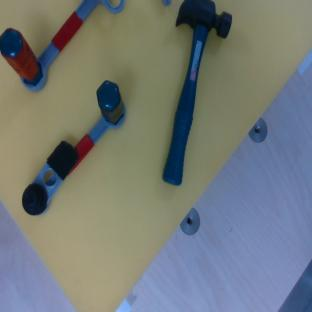non_pass: (13, 77, 139, 226)
